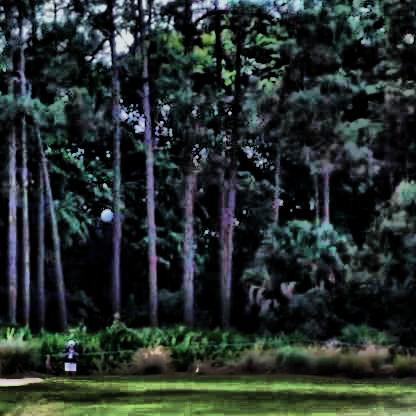golfball: (99, 206, 111, 219)
